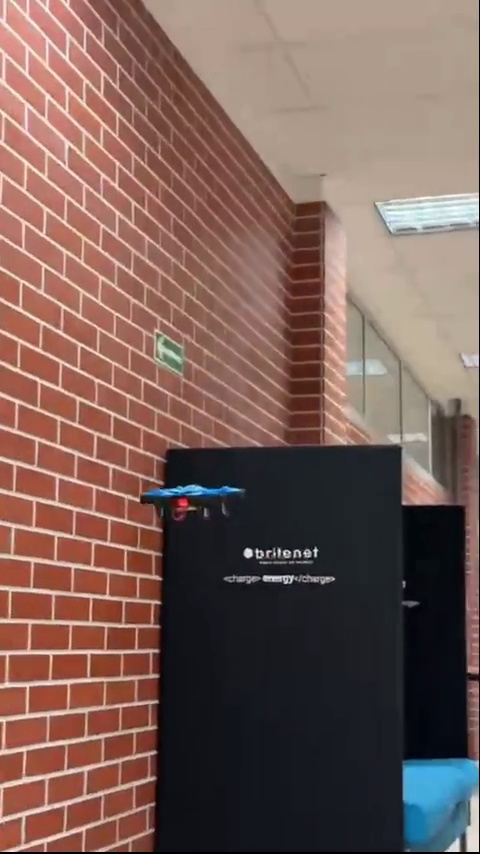drone: (138, 483, 248, 521)
